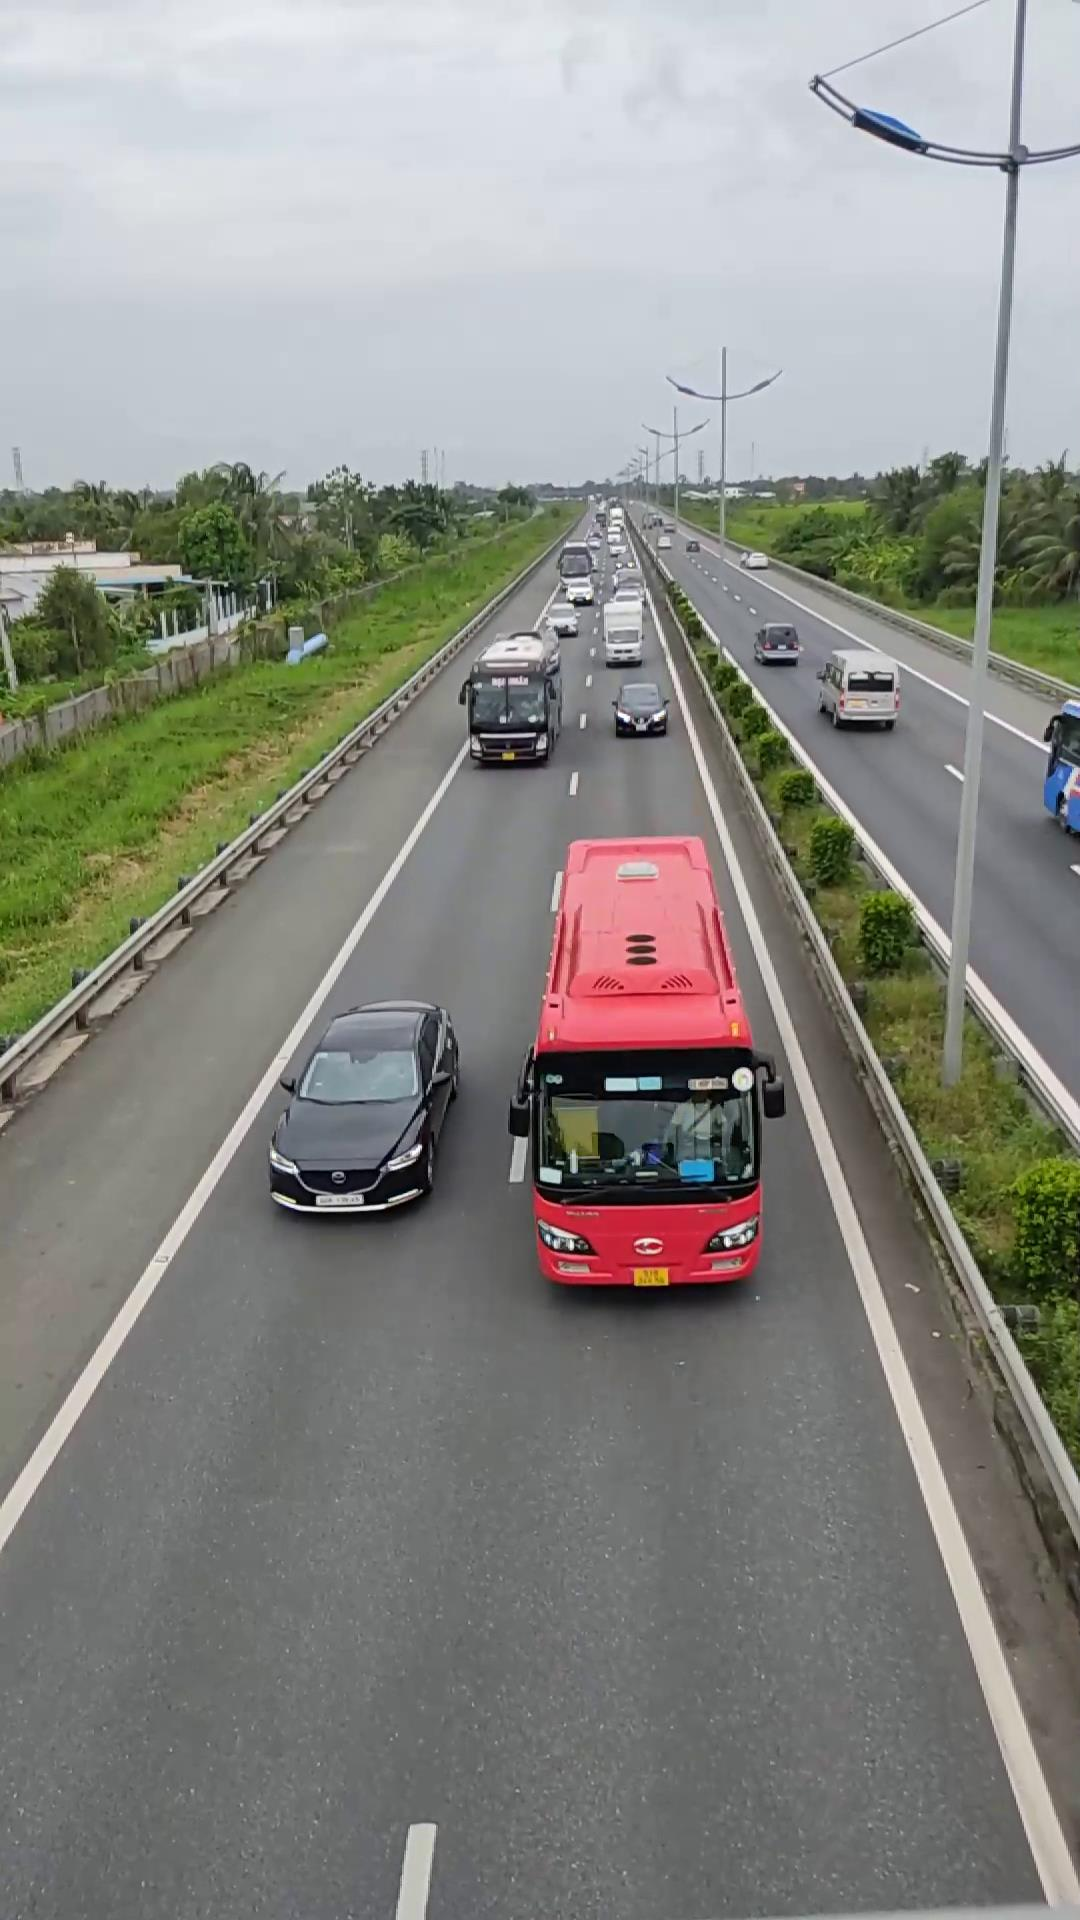bus: (510, 823, 775, 1292), (464, 632, 561, 765)
car: (265, 1000, 461, 1215), (815, 645, 901, 728)
